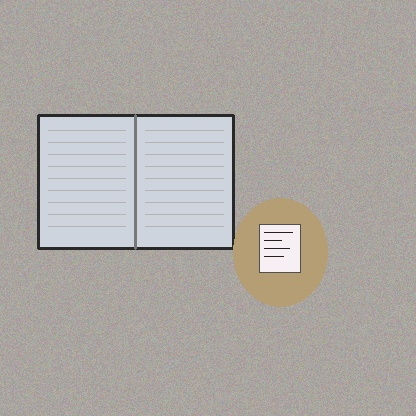book: (38, 115, 233, 248)
exam_chit: (259, 224, 300, 272)
